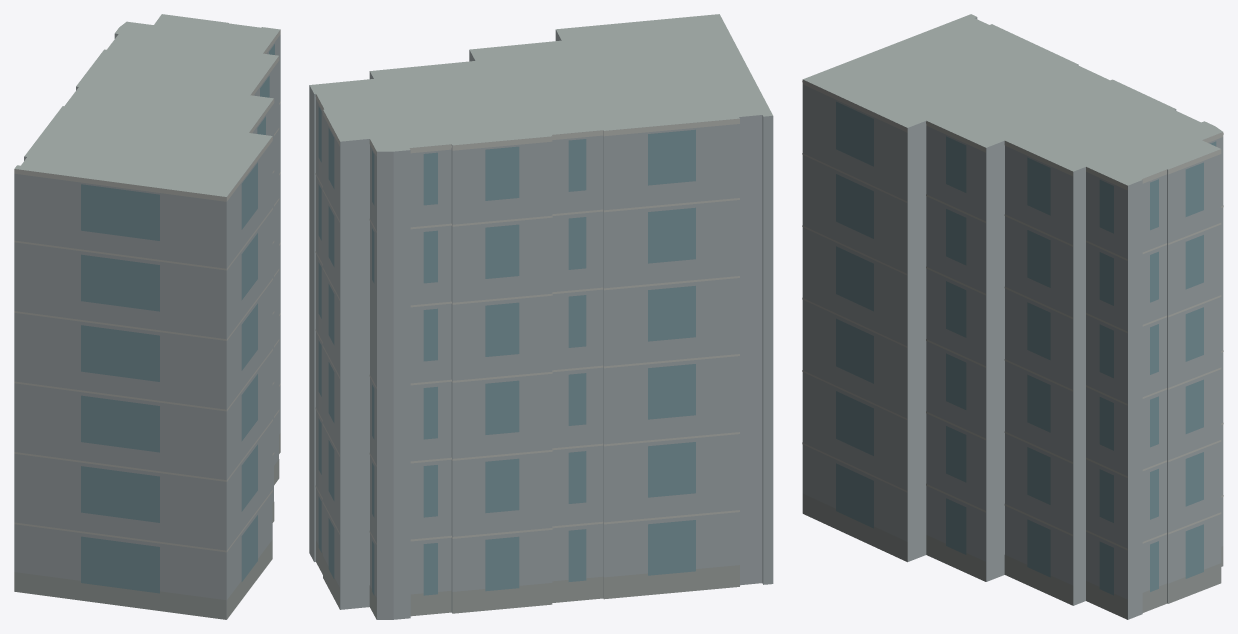
File: survey-upis-32897858.glb
3 renders of one model, left to right at view 1: azimuth 30°, elevation 25°; view 2: azimuth 150°, elevation 25°; view 3: azimuth 270°, elevation 25°, orthographic. The views are drawn at different scales.
Parts seen in each view (by area): view 1: survey-upis-32897858.tmp; view 2: survey-upis-32897858.tmp; view 3: survey-upis-32897858.tmp.
Boxes of the visible parts, x1,y1,x2,y2 form: survey-upis-32897858.tmp: (14, 14, 280, 619); survey-upis-32897858.tmp: (309, 14, 773, 619); survey-upis-32897858.tmp: (802, 14, 1223, 619).
Size of the model in its own units: 18.25 by 21.5 by 18.9.
